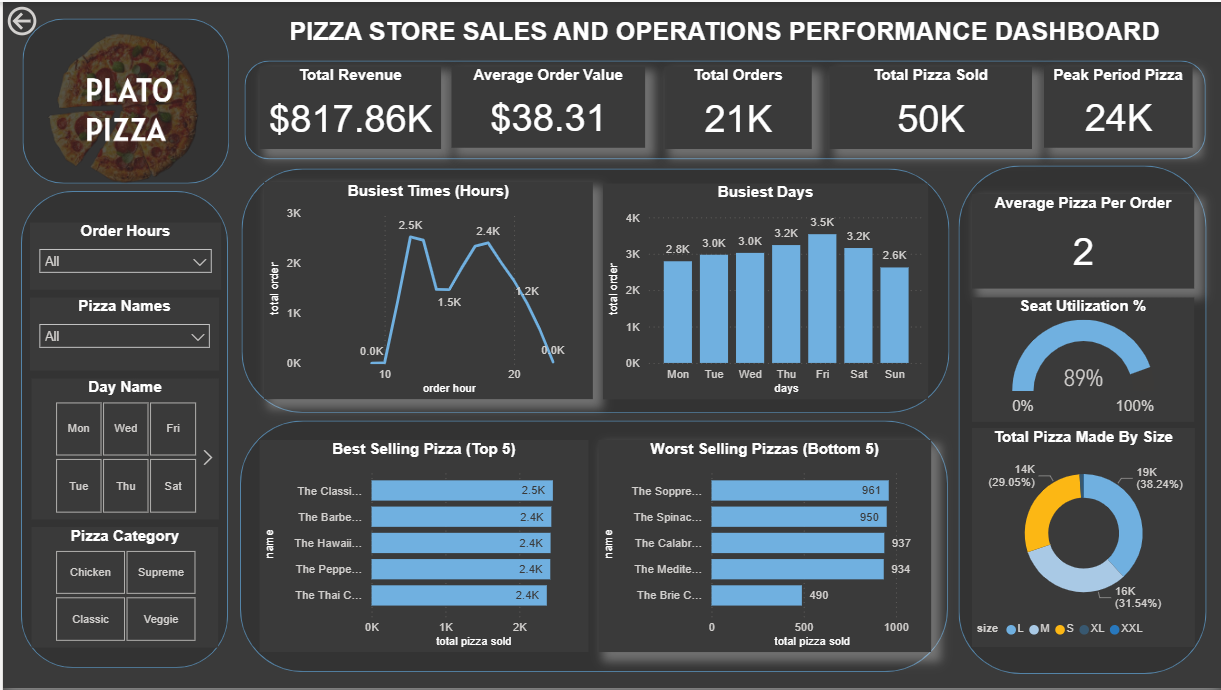

Layout of this report page (visuals, bound fields, positions):
{"tool":"powerbi","page":{"name":"Pizza Sales Dashboard","canvas":[1280,720],"ordinal":0},"visuals":[{"type":"shape","box":[20.8,17,217,173.6],"z":1000},{"type":"shape","box":[1003.8,172.3,260.4,534],"z":2000},{"type":"shape","box":[249.1,439.6,743.4,264.2],"z":3000},{"type":"shape","box":[253.4,61.7,1009.4,103.8],"z":4000},{"type":"card","title":"Total Revenue","fields":{"Values":["order_details.total_revenue"]},"box":[269.6,67.8,190.6,86.6],"z":5000},{"type":"textbox","box":[252,11,1011.2,42.5],"z":6000},{"type":"card","title":"Total Orders","fields":{"Values":["orders.total_order"]},"box":[694.8,67.8,154.4,86.6],"z":7000},{"type":"card","title":"Total Pizza Sold","fields":{"Values":["pizzas.total_pizza_made"]},"box":[868.1,67.8,212.6,86.6],"z":8000},{"type":"shape","box":[19.5,198.8,217.4,500.9],"z":9000},{"type":"card","title":"Average Pizza Per Order","fields":{"Values":["order_details.average_pizza_per_order"]},"box":[1017.5,201,233.1,99.2],"z":10000},{"type":"slicer","title":"Pizza Category","fields":{"Values":["pizza_types.category"]},"box":[30.2,551.1,196.2,126.4],"z":11000},{"type":"slicer","title":"Day Name","fields":{"Values":["date_table.day_name"]},"box":[30.4,396,196.5,147.8],"z":12000},{"type":"slicer","title":"Order Hours","fields":{"Values":["orders.order_hours"]},"box":[28.4,231.9,200.5,70.9],"z":13000},{"type":"shape","box":[250.3,174.2,743.4,256.6],"z":14000},{"type":"lineChart","title":"Busiest Times (Hours)","fields":{"Category":["orders.order_hours"],"Y":["orders.total_order"]},"box":[274.8,189.3,345.3,228.3],"z":15000},{"type":"clusteredColumnChart","title":"Busiest Days","fields":{"Y":["orders.total_order"],"Category":["date_table.day_name"]},"box":[629.5,190.4,341.5,226.4],"z":16000},{"type":"clusteredBarChart","title":"Best Selling Pizza (Top 5)","fields":{"Y":["pizzas.total_pizza_made"],"Category":["pizza_types.name"]},"box":[269.8,460.4,345.3,222.6],"z":17000},{"type":"clusteredBarChart","title":"Worst Selling Pizzas (Bottom 5)","fields":{"Y":["pizzas.total_pizza_sold"],"Category":["pizza_types.name"]},"box":[624.5,460.4,349.1,222.6],"z":18000},{"type":"card","title":"Average Order Value","fields":{"Values":["order_details.average_order_value"]},"box":[471.2,67.8,203.2,85.1],"z":19000},{"type":"gauge","title":"Seat Utilization %","fields":{"Y":["order_details.average_seat_utilization_%"]},"box":[1017.5,309.6,233.1,130.7],"z":20000},{"type":"donutChart","title":"Total Pizza Made By Size","fields":{"Y":["pizzas.total_pizza_made"],"Category":["pizzas.size"]},"box":[1017,447.8,234,230.2],"z":21000},{"type":"image","box":[35.8,20.8,183,184.9],"z":22000},{"type":"card","title":"Peak Period Pizza","fields":{"Values":["pizzas.peak_hour_pizza"]},"box":[1093.3,67.8,155.9,85.1],"z":23000},{"type":"slicer","title":"Pizza Names","fields":{"Values":["pizza_types.name"]},"box":[28.4,310.9,198.5,77],"z":24000},{"type":"actionButton","box":[0,0,100,40],"z":25000}]}

Visuals, with their boxes in screenshot pixels (x1, y1, x2, y2), scaled from the page's 1280x720 canvas onto the 1221x690 screenshot:
shape: 20:16:227:183
shape: 958:165:1206:677
shape: 238:421:947:674
shape: 242:59:1205:159
"Total Revenue" card: 257:65:439:148
textbox: 240:11:1205:51
"Total Orders" card: 663:65:810:148
"Total Pizza Sold" card: 828:65:1031:148
shape: 19:191:226:671
"Average Pizza Per Order" card: 971:193:1193:288
"Pizza Category" slicer: 29:528:216:649
"Day Name" slicer: 29:380:216:521
"Order Hours" slicer: 27:222:218:290
shape: 239:167:948:413
"Busiest Times (Hours)" lineChart: 262:181:592:400
"Busiest Days" clusteredColumnChart: 600:182:926:399
"Best Selling Pizza (Top 5)" clusteredBarChart: 257:441:587:655
"Worst Selling Pizzas (Bottom 5)" clusteredBarChart: 596:441:929:655
"Average Order Value" card: 449:65:643:147
"Seat Utilization %" gauge: 971:297:1193:422
"Total Pizza Made By Size" donutChart: 970:429:1193:650
image: 34:20:209:197
"Peak Period Pizza" card: 1043:65:1192:147
"Pizza Names" slicer: 27:298:216:372
actionButton: 0:0:95:38
